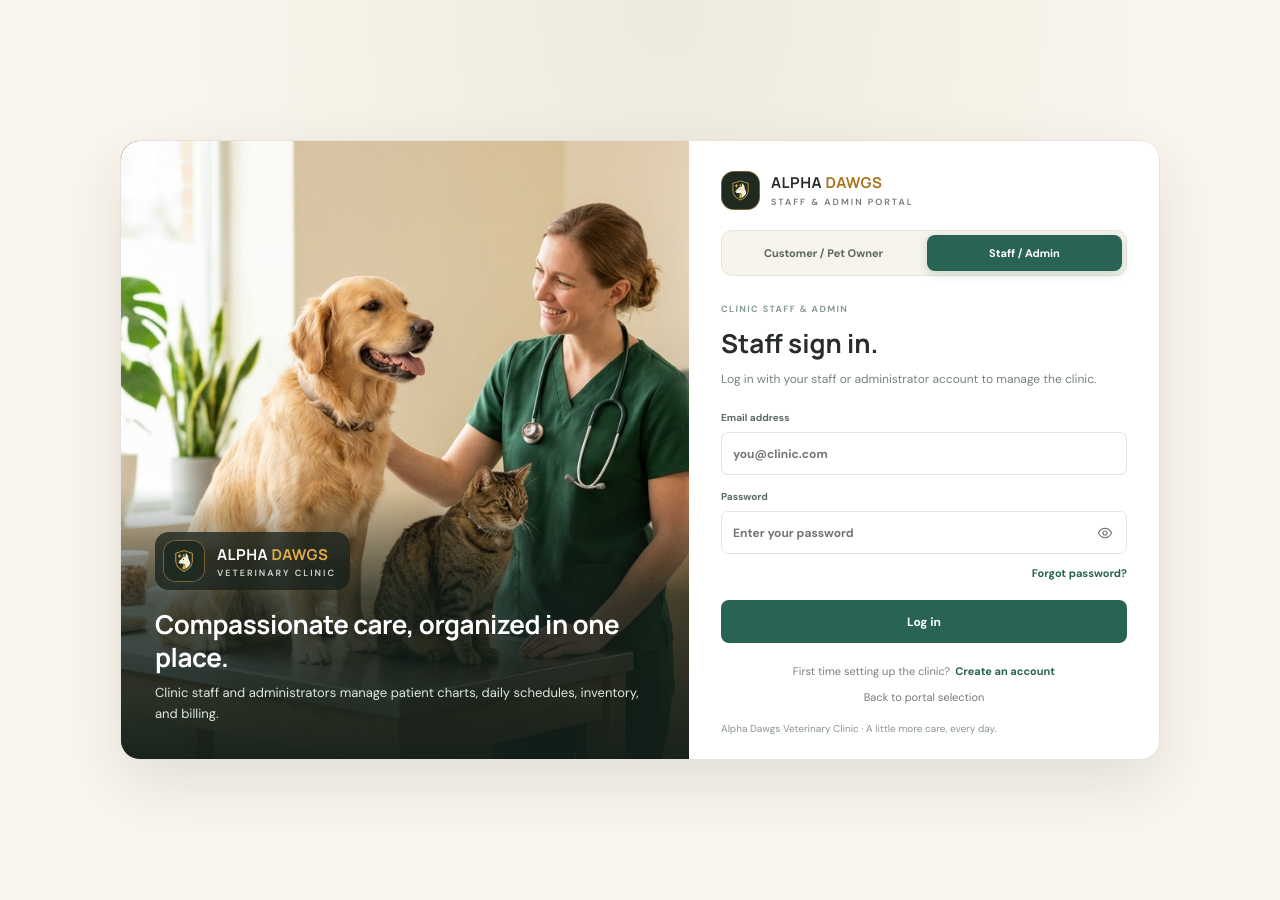
it: clinic portals and routing › registers the first admin on /staff/login and sends the CSRF token
Click the button "Create an account". click: (1005, 671)
box: 955,664 -> 1055,678
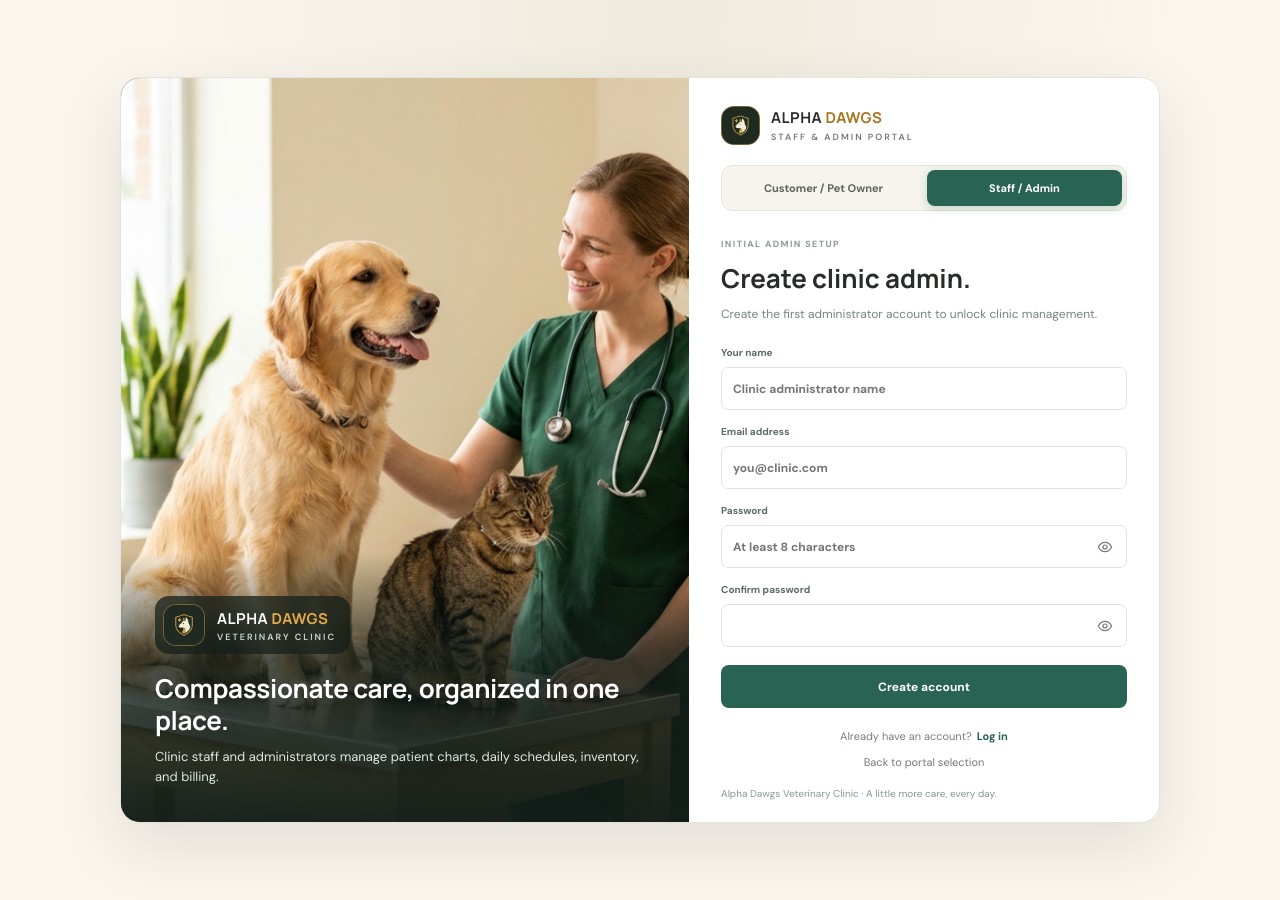
Type "Clinic Staff" into the field labelled "Your name". click: (924, 389)
box: 721,367 -> 1127,410
Type "staff@example.com" into the field labelled "Email address". click: (924, 468)
box: 721,446 -> 1127,489
Type "StrongPass123" into the password field labelled "Password". click: (924, 547)
box: 721,525 -> 1127,568
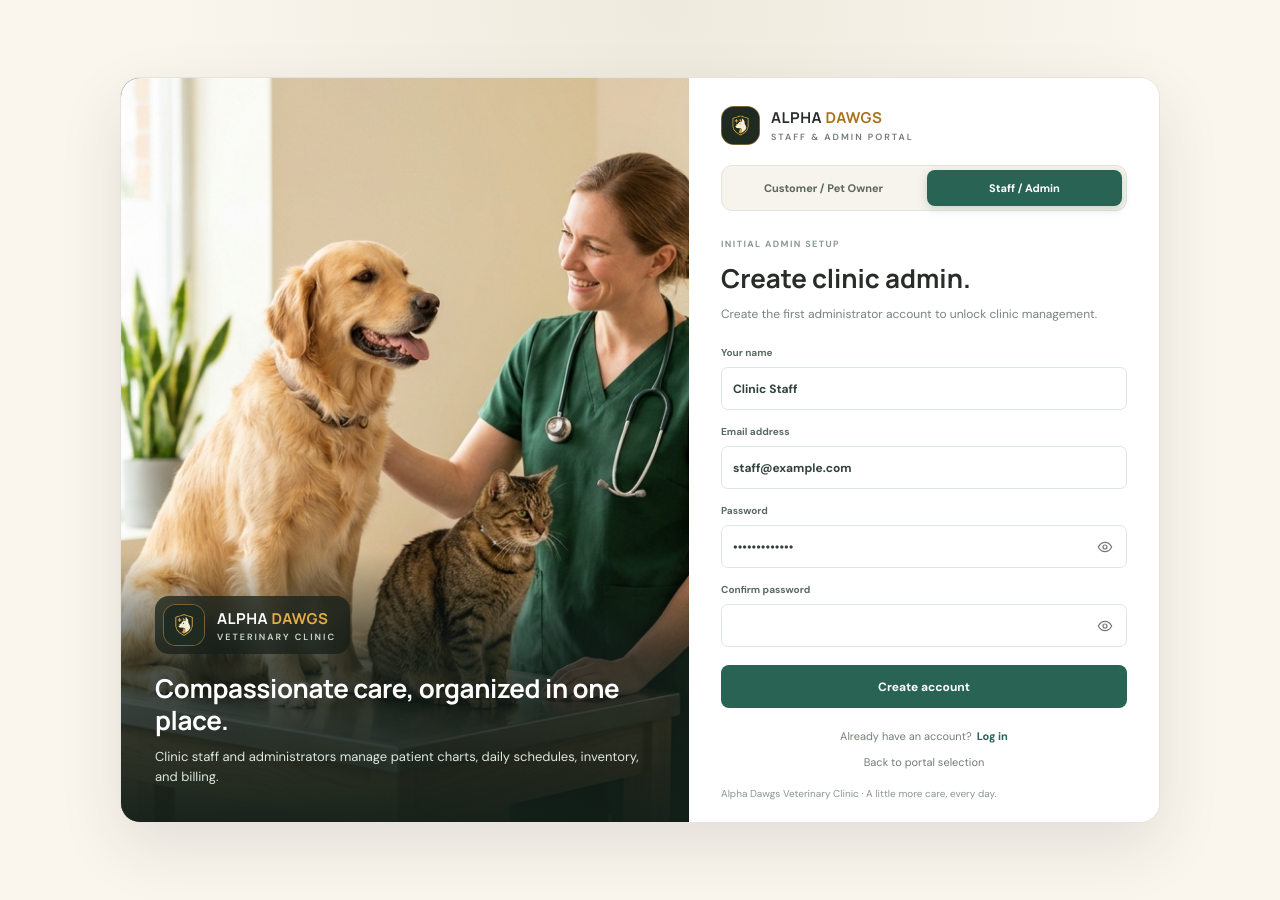
Type "StrongPass123" into the password field labelled "Confirm password". click: (924, 626)
box: 721,604 -> 1127,647
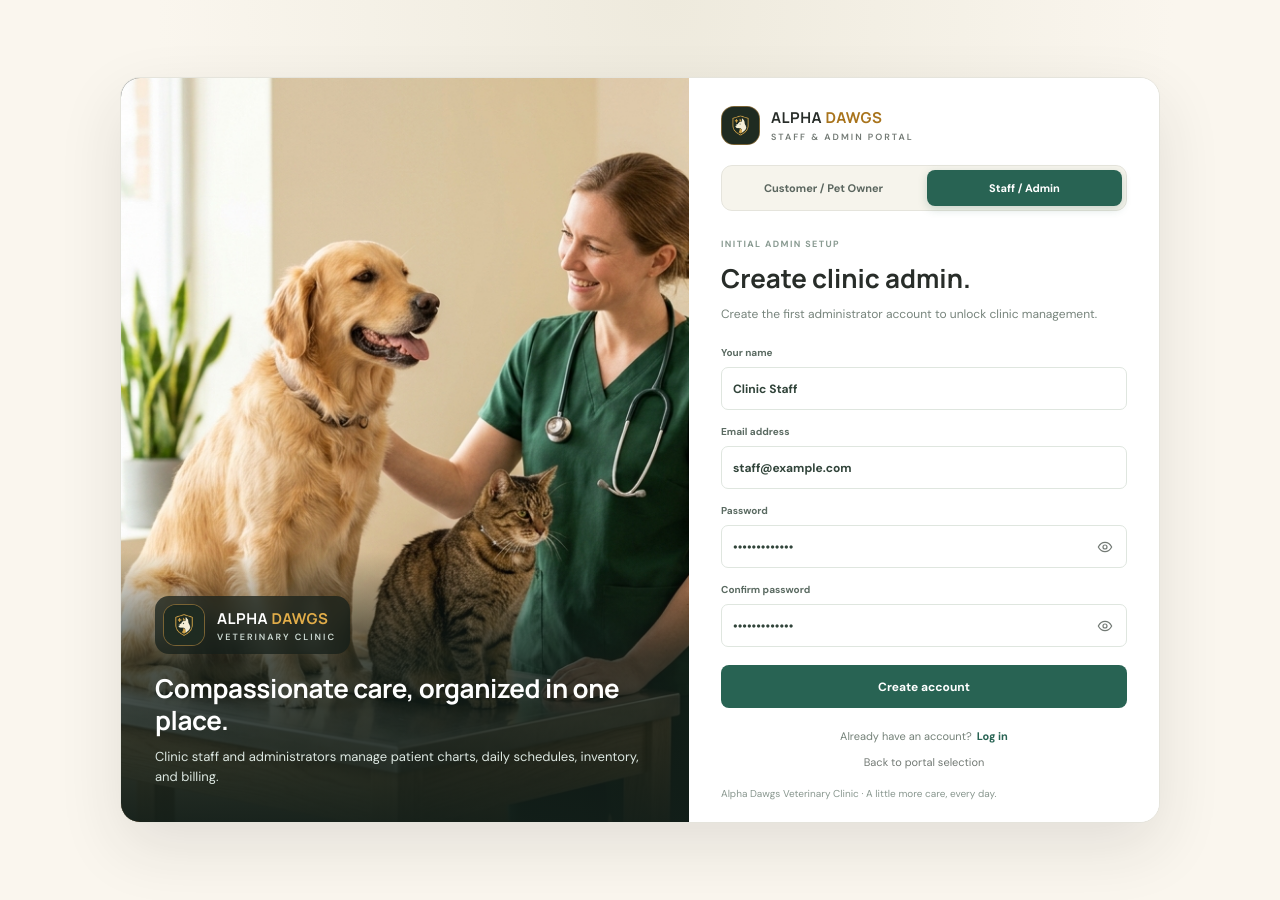
Click the button named "Show password". click: (1105, 547)
box: 1089,531 -> 1121,563
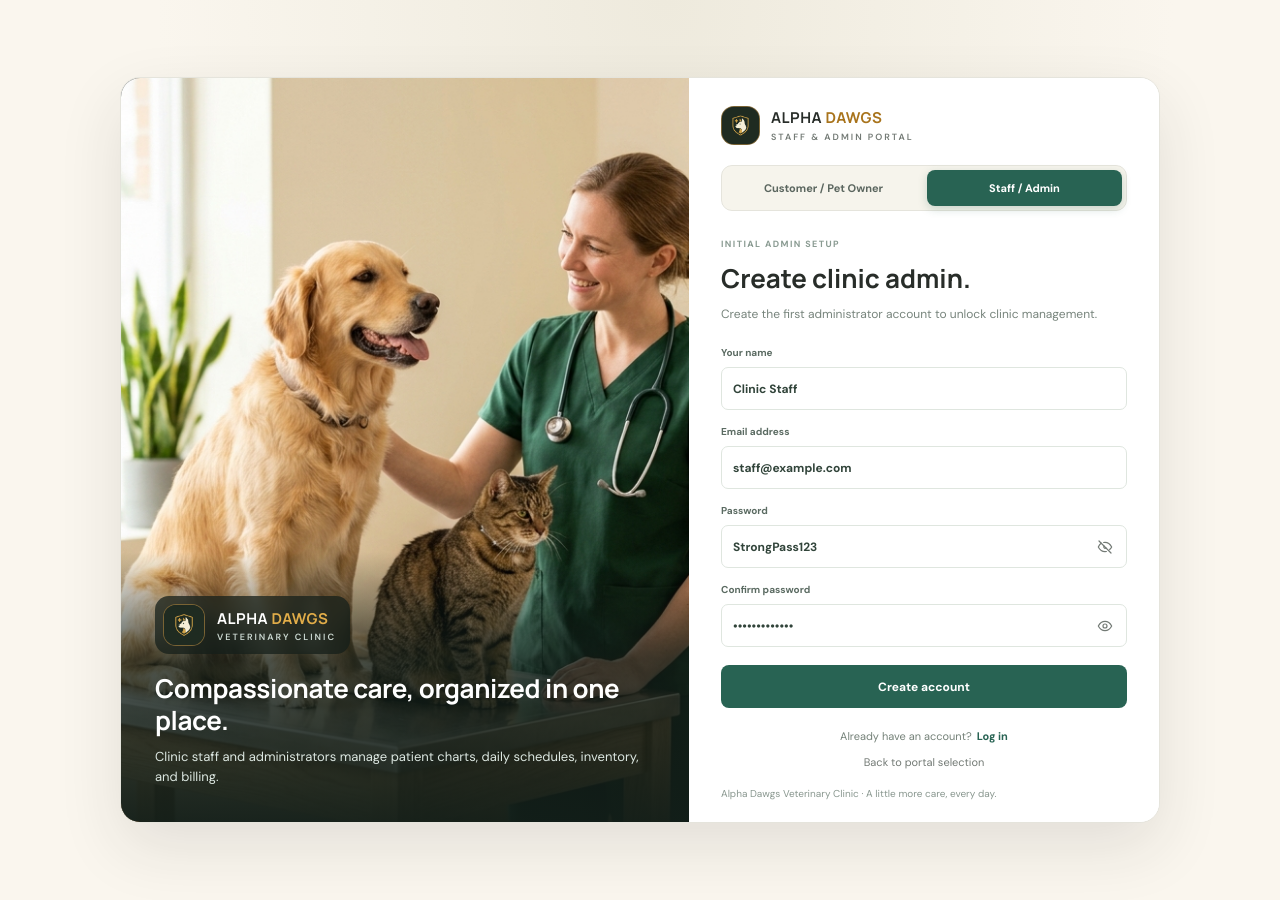
Expected: the field labelled "Password" shows its text, 721,525 -> 1127,568
Click the button named "Hide password". click: (1105, 547)
box: 1089,531 -> 1121,563
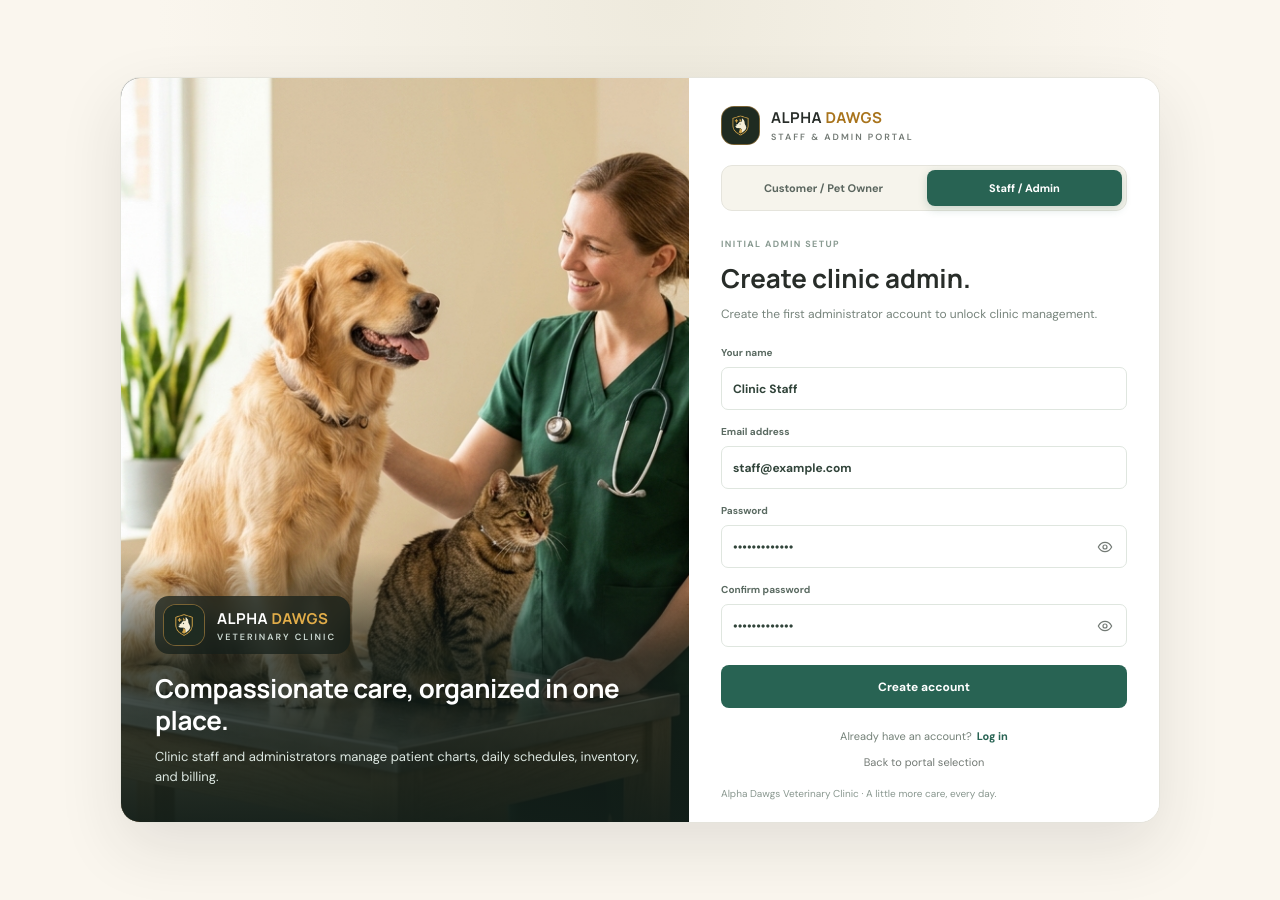
Expected: the password field labelled "Password" hides its text, 721,525 -> 1127,568
Click the button "Create account". click: (924, 687)
box: 721,665 -> 1127,708
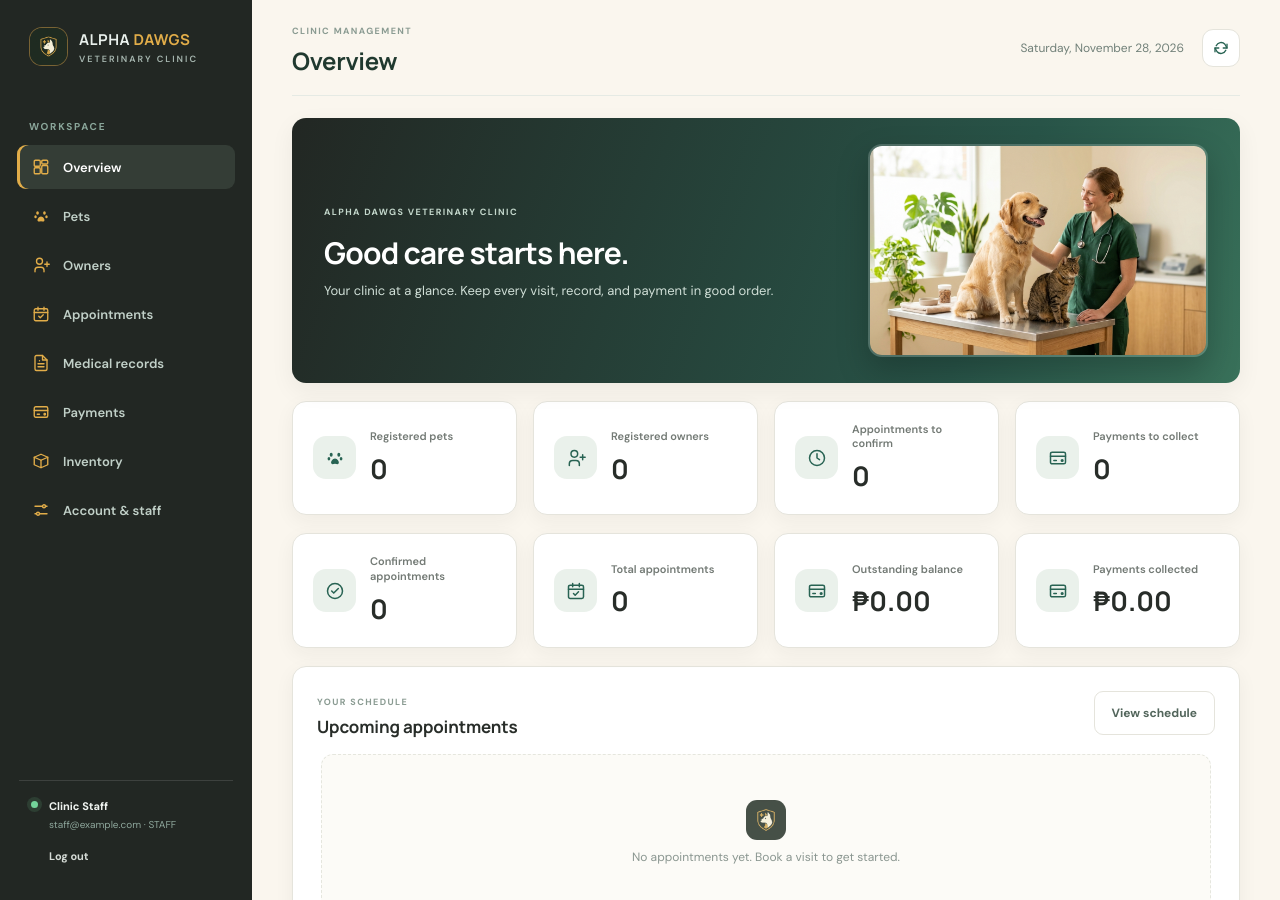
Expected: the heading "Good care starts here." is shown, 324,232 -> 629,273
